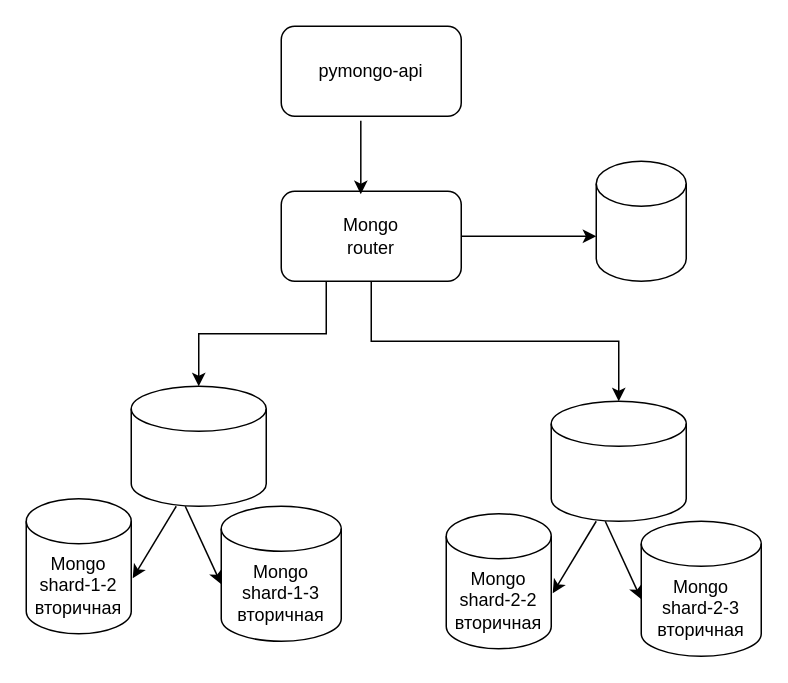
The diagram is 788 pixels wide and 683 high, and some of its shapes have lost their labels. The box of each missing label's shape, as (x1, y1, x2, y2) in pixels:
Mongo configSrv: (595, 160, 686, 281)
Mongo shard-1-1 первичная: (130, 385, 266, 506)
Mongo shard-2-1 первичная: (550, 400, 686, 521)
